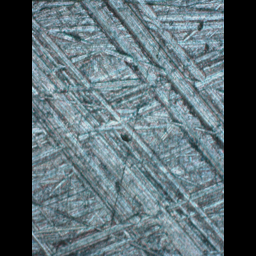d: (32, 0, 222, 250)
